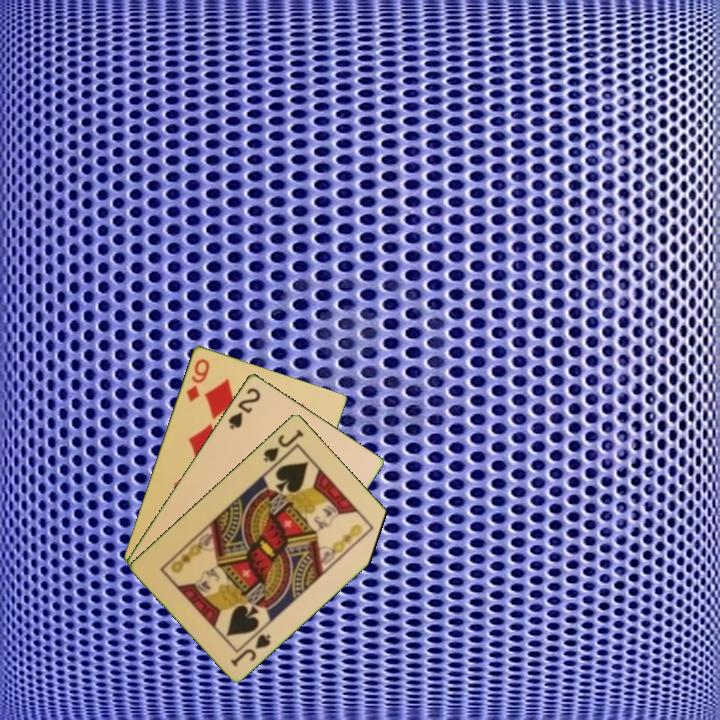2s: (224, 384, 263, 432)
9d: (182, 355, 212, 404)
Js: (259, 425, 307, 465), (227, 630, 273, 669)
